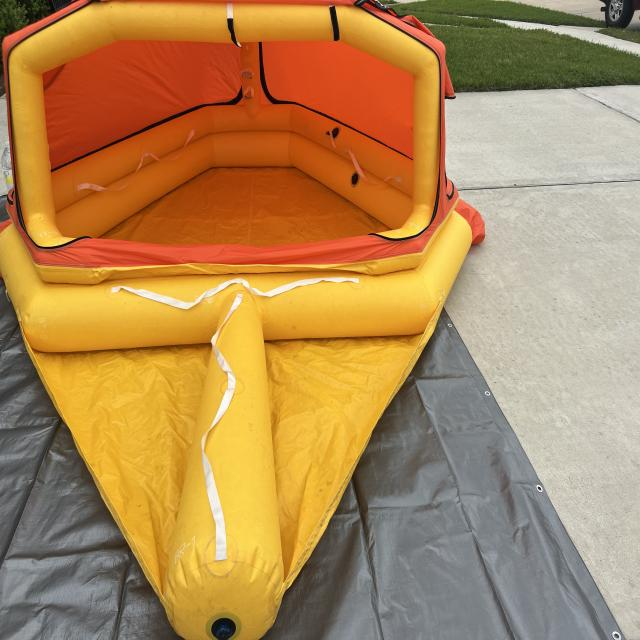Multi-person_life_raft: (0, 1, 485, 639)
